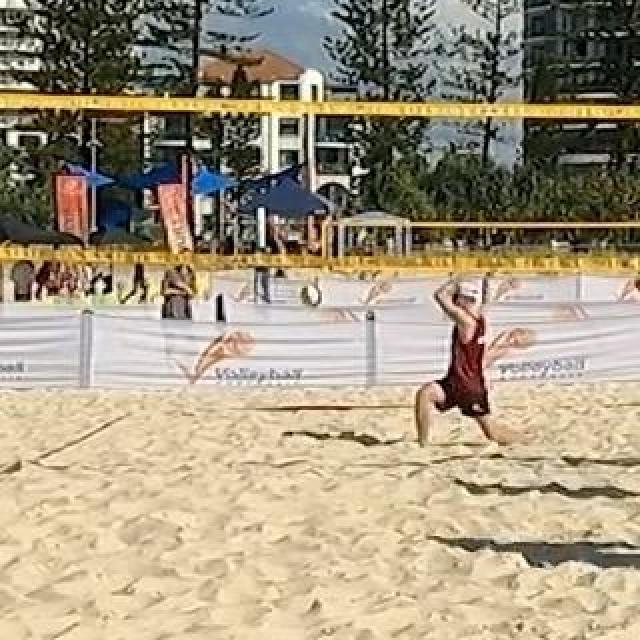volleyball: (301, 285, 323, 307)
